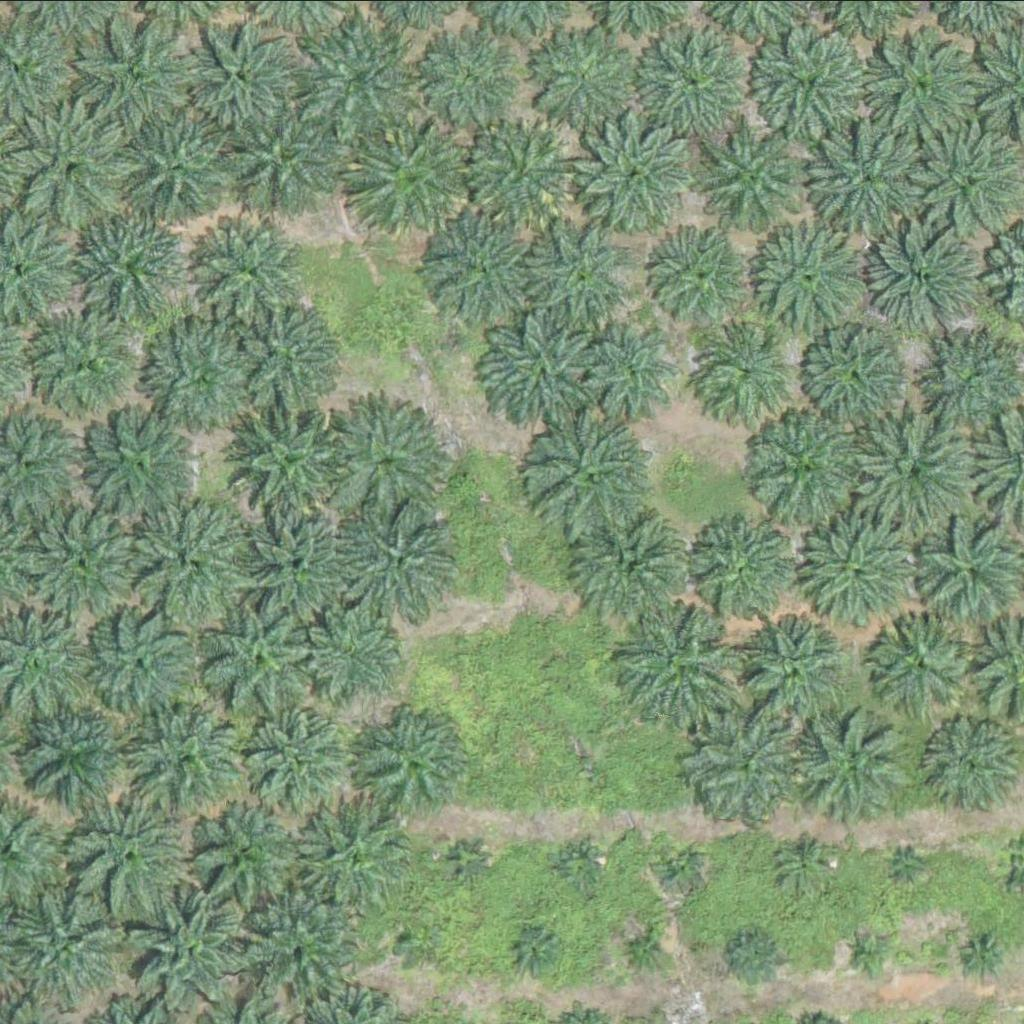Kelapa_Sawit: (134, 886, 260, 1011), (249, 886, 375, 1011), (64, 789, 190, 914), (177, 799, 303, 924), (201, 598, 327, 723), (21, 493, 147, 618), (129, 494, 255, 619), (337, 498, 463, 623), (222, 399, 348, 524), (326, 395, 452, 520), (11, 106, 137, 231), (480, 308, 606, 433), (533, 414, 659, 539), (618, 597, 744, 722), (851, 407, 977, 532), (741, 405, 867, 530), (22, 307, 147, 432), (140, 318, 265, 443), (355, 115, 480, 240), (238, 709, 352, 822), (131, 697, 245, 810), (300, 596, 414, 709), (572, 507, 686, 620), (357, 705, 470, 818), (19, 694, 132, 807), (85, 410, 198, 523), (230, 304, 343, 417), (187, 17, 300, 130), (83, 20, 196, 133), (574, 113, 687, 226), (701, 116, 814, 229), (814, 122, 927, 235), (748, 223, 861, 336), (865, 29, 978, 142), (799, 517, 912, 630), (870, 223, 984, 335), (305, 799, 418, 911), (89, 605, 202, 717), (245, 513, 358, 625), (193, 214, 306, 326), (68, 207, 181, 319), (125, 110, 238, 222), (223, 103, 336, 215), (310, 21, 423, 133), (526, 23, 639, 135), (636, 22, 749, 134), (752, 24, 865, 136), (691, 709, 804, 821), (797, 700, 910, 812), (419, 28, 520, 128), (469, 122, 570, 222), (431, 212, 532, 312), (529, 224, 630, 324), (650, 228, 751, 328), (582, 322, 683, 422), (741, 619, 842, 719), (869, 613, 970, 713), (697, 324, 797, 424), (806, 326, 906, 426), (690, 520, 790, 620), (931, 716, 1019, 803), (723, 925, 786, 988), (780, 839, 831, 889), (615, 923, 666, 973), (506, 925, 556, 975), (653, 839, 703, 889), (443, 836, 493, 886), (554, 840, 604, 890), (389, 917, 439, 967), (843, 928, 893, 978), (957, 929, 1007, 979), (898, 852, 923, 877)
